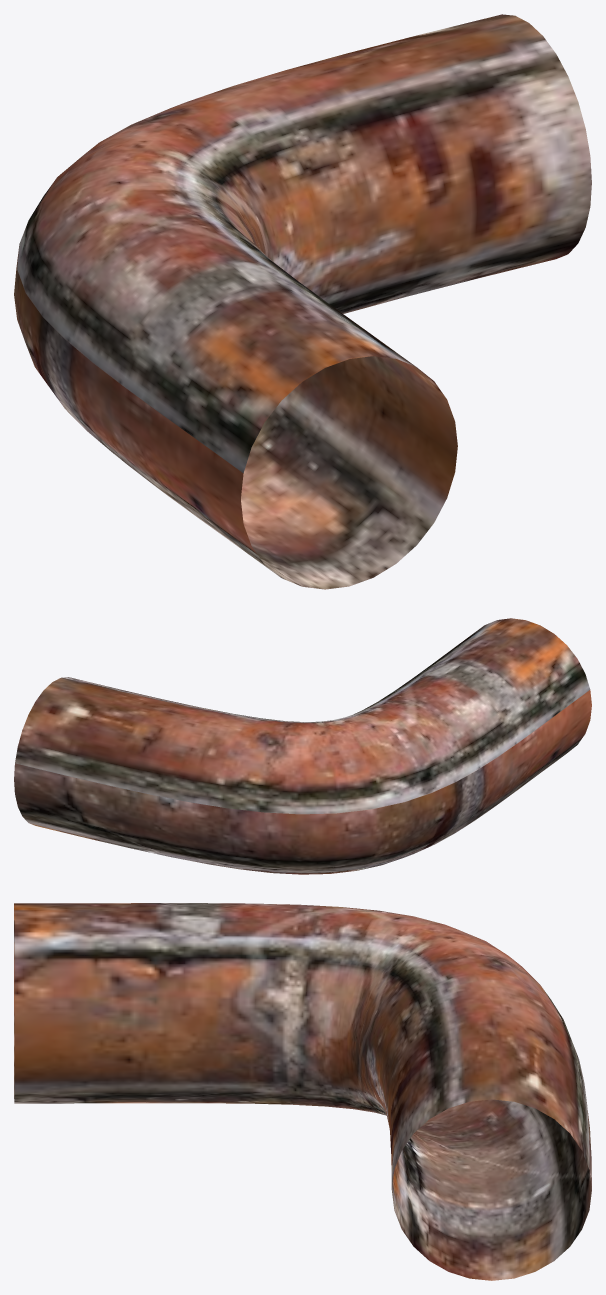
The model's file is Short_Curve_Sewer_01 1.fbx.
The picture shows the model from 3 angles, top to bottom: view 1: azimuth 30°, elevation 25°; view 2: azimuth 150°, elevation 25°; view 3: azimuth 270°, elevation 25°; orthographic projection. The views are drawn at different scales.
Visible parts, largest first — view 1: BezierCurve.002; view 2: BezierCurve.002; view 3: BezierCurve.002.
Part boxes in pixels (x1=…): BezierCurve.002: x1=14, y1=14, x2=591, y2=589; BezierCurve.002: x1=14, y1=618, x2=591, y2=874; BezierCurve.002: x1=14, y1=903, x2=591, y2=1280.
Bounding box in the file's own units: 2439 × 900 × 2599.
